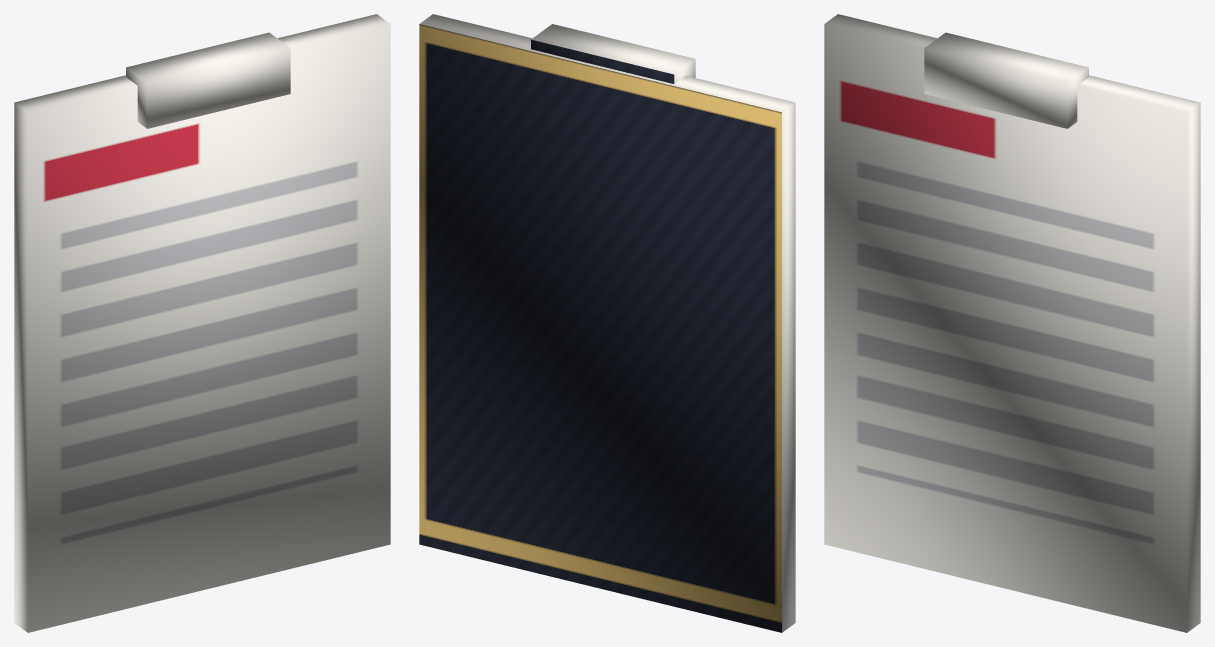
The model's file is case-folder.glb.
3 views of the same model, side by side, from view 1: azimuth 30°, elevation 25°; view 2: azimuth 150°, elevation 25°; view 3: azimuth 330°, elevation 25° (orthographic).
Visible parts, largest first — view 1: TS_Prop_case-folder; view 2: TS_Prop_case-folder; view 3: TS_Prop_case-folder.
Boxes of the visible parts, box(x1,y1,x2,y2) form: TS_Prop_case-folder: box(14, 14, 390, 632); TS_Prop_case-folder: box(419, 14, 795, 632); TS_Prop_case-folder: box(824, 14, 1200, 632).
Bounding box in the file's own units: 0.215 × 0.3005 × 0.024.
1 material, 1 textured.
